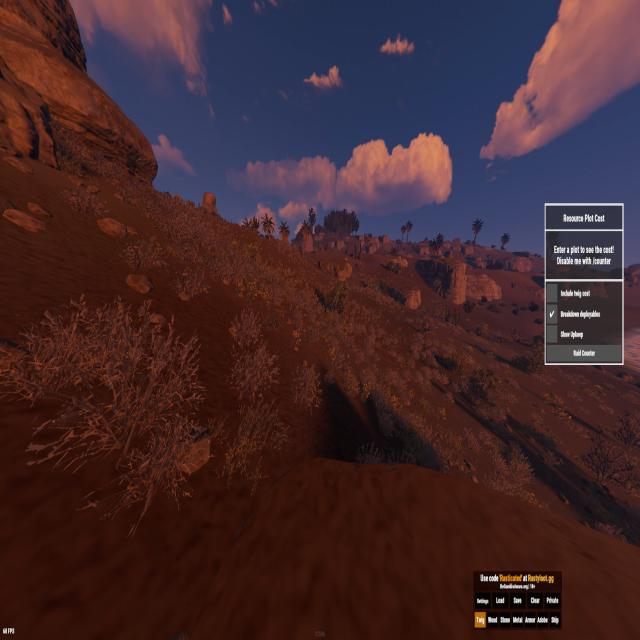Player: (318, 261, 321, 270)
